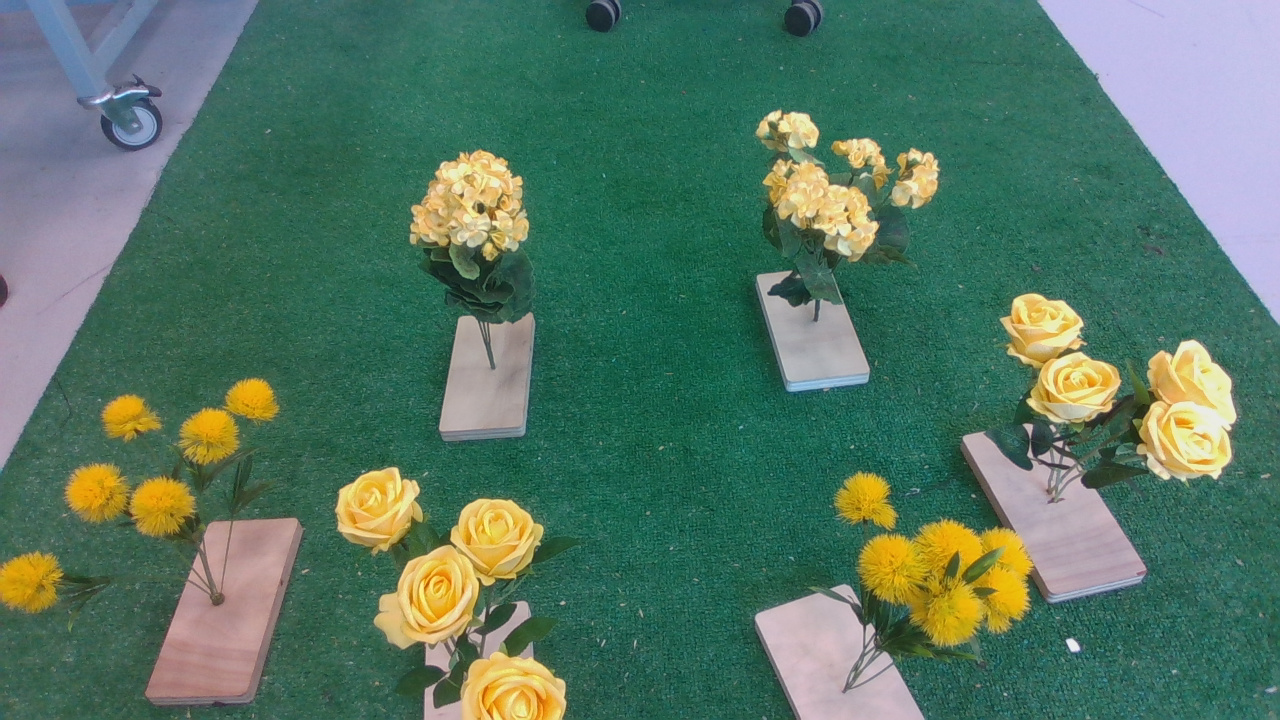dandelion: (2, 378, 293, 635), (820, 472, 1045, 696)
geranium: (749, 103, 949, 316), (400, 143, 550, 331)
rose: (962, 278, 1251, 503), (329, 461, 578, 720)
